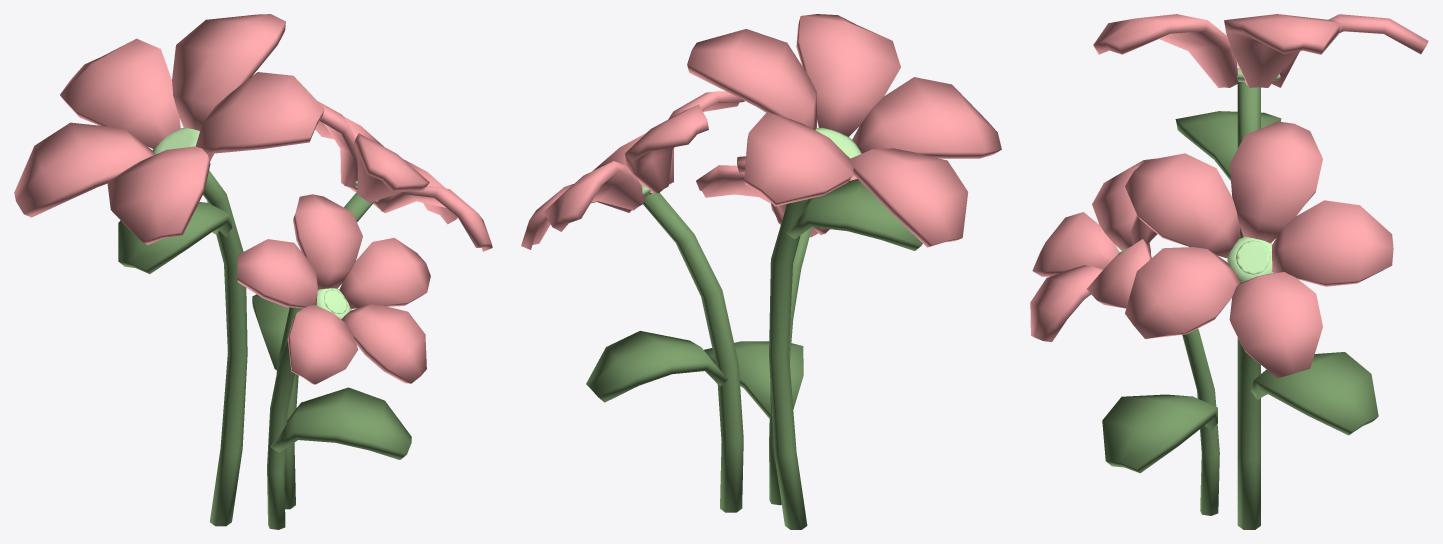
File: fragariaflower_2.fbx
3 renders of one model, left to right at view 1: azimuth 30°, elevation 25°; view 2: azimuth 150°, elevation 25°; view 3: azimuth 270°, elevation 25°, orthographic. The views are drawn at different scales.
Parts seen in each view (by area): view 1: fragaria flower 2; view 2: fragaria flower 2; view 3: fragaria flower 2.
Part boxes in pixels (x1,y1,x2,y2): fragaria flower 2: (14, 14, 492, 529); fragaria flower 2: (521, 14, 1001, 529); fragaria flower 2: (1030, 14, 1428, 529).
Bounding box in the file's own units: 46.77 × 49.57 × 35.82.
